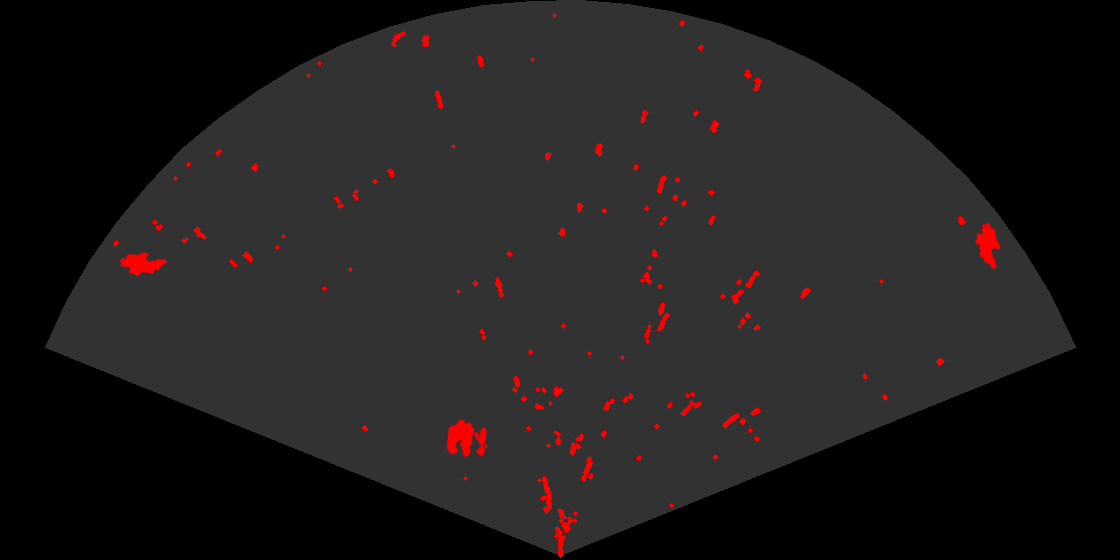AUV: (974, 221, 1002, 271), (118, 251, 169, 278)
ball: (445, 418, 488, 459)
